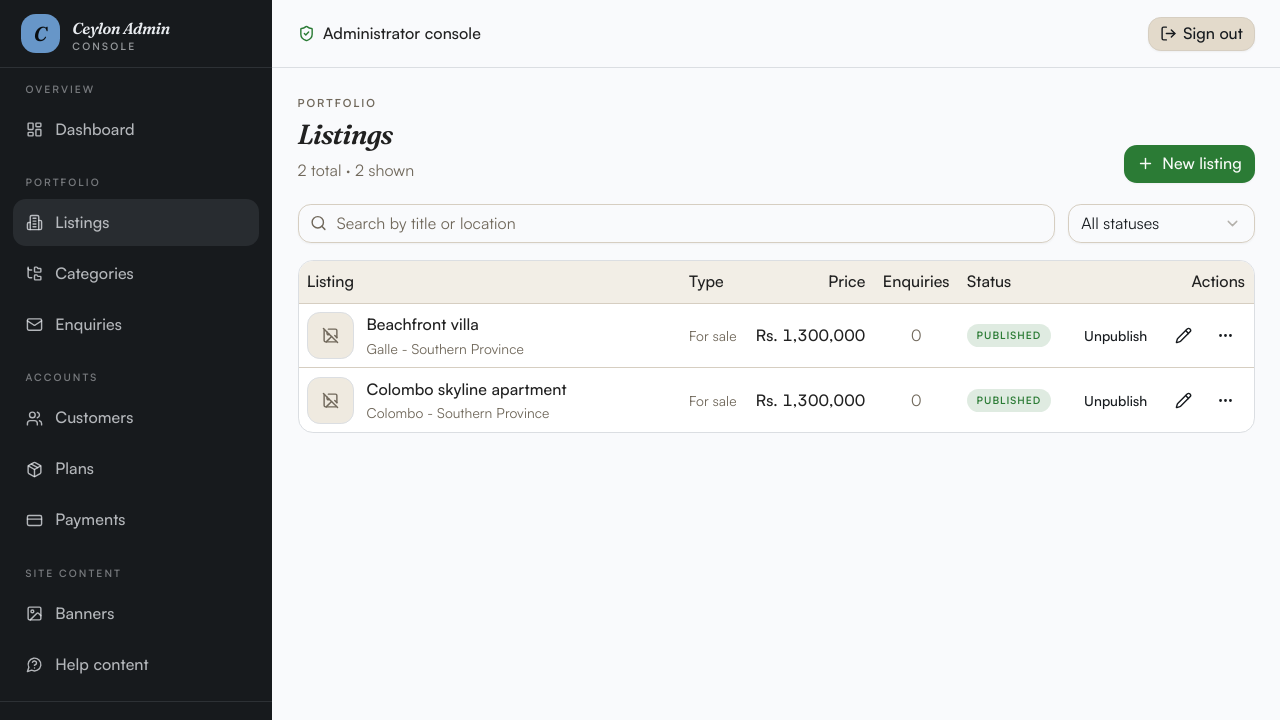
Test: admin listings management › filters the table by a title or location search
Check: the row with test id "admin_listings.row.1" is shown, box [298, 303, 1254, 368]
Type "Colombo" into the search field with test id "admin_listings.search_input" at (676, 223), box [298, 204, 1055, 243]
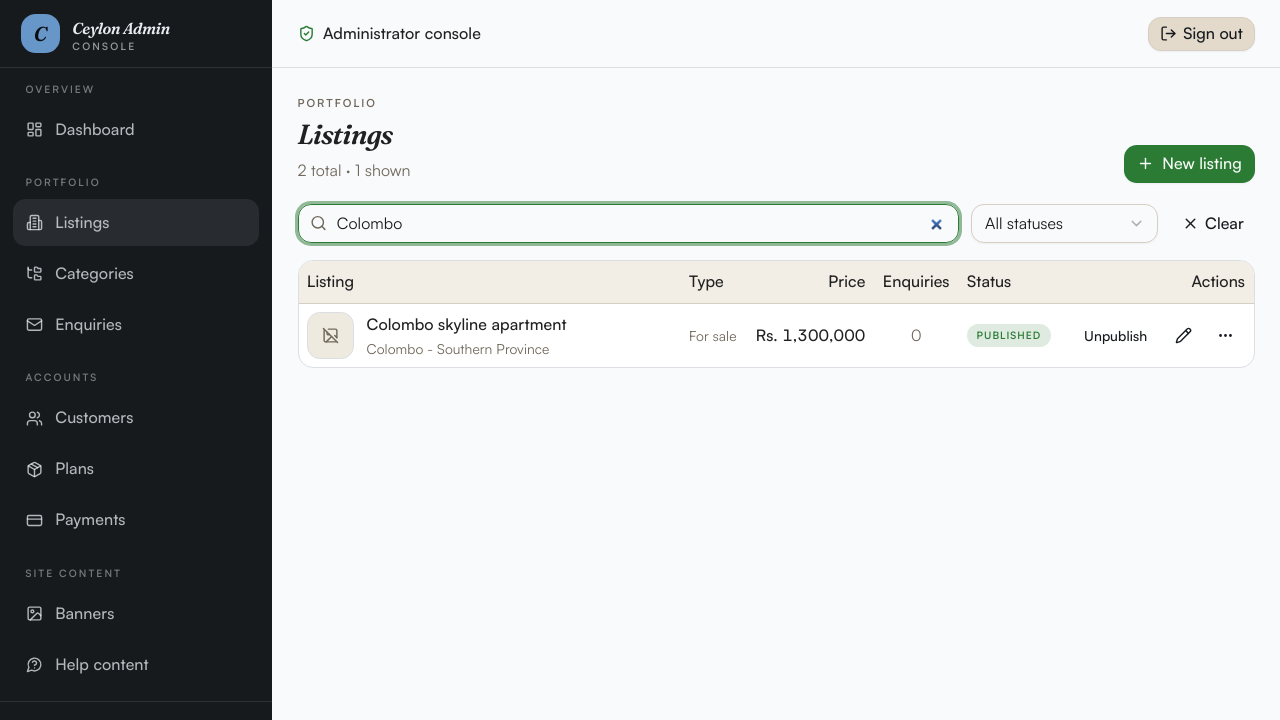
Check: the row with test id "admin_listings.row.1" is shown, box [298, 303, 1254, 367]
